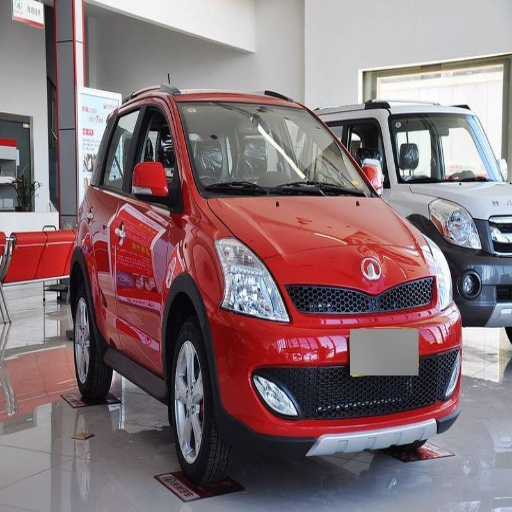front_bumper: (209, 285, 453, 455)
front_right_door: (116, 99, 182, 361)
front_right_light: (214, 239, 290, 323)
hood: (206, 196, 423, 295)
